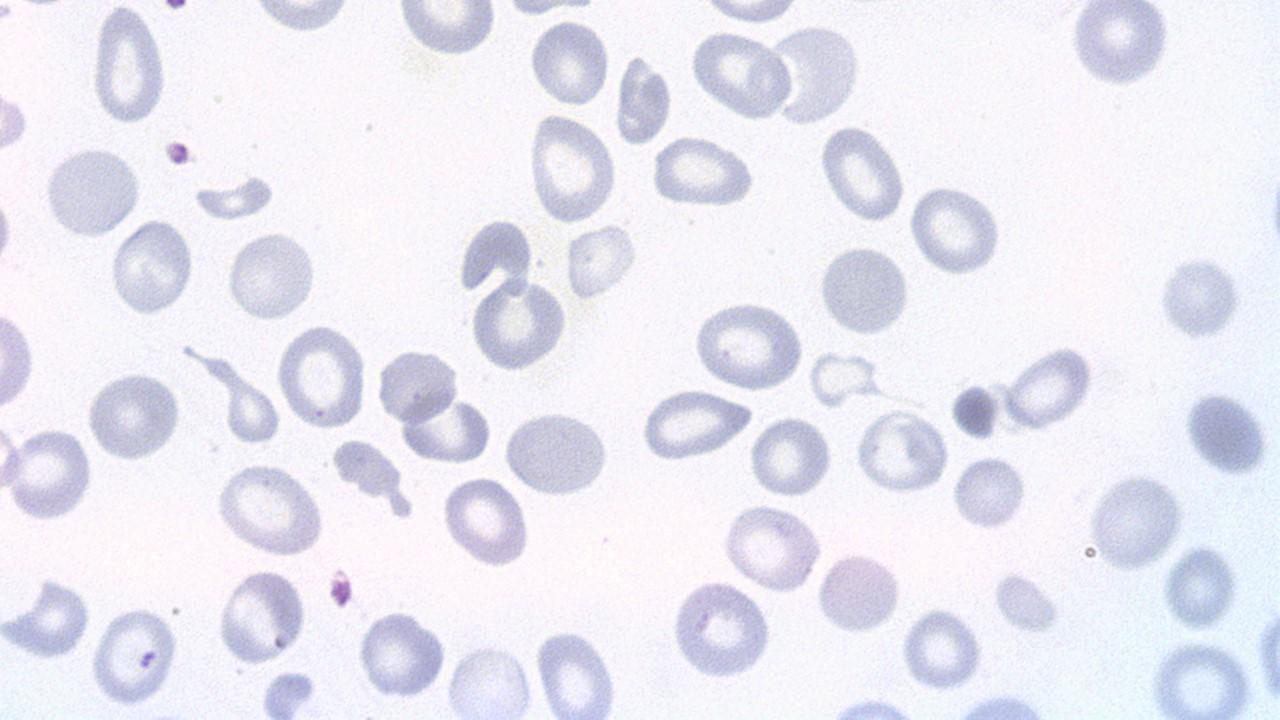Platelets: (326, 568, 354, 610), (162, 137, 196, 169), (154, 0, 192, 11)
RBC: (756, 21, 866, 128), (668, 576, 778, 682), (690, 297, 806, 393), (213, 461, 326, 558), (1084, 468, 1188, 572), (500, 406, 614, 499), (468, 272, 569, 376), (86, 602, 183, 710), (525, 111, 618, 223), (274, 322, 370, 429), (89, 5, 172, 126), (1065, 4, 1175, 94), (42, 142, 143, 240), (687, 28, 793, 121), (907, 180, 1007, 278), (720, 500, 826, 592), (816, 239, 913, 339), (999, 340, 1103, 433), (213, 566, 309, 666), (817, 122, 909, 225), (84, 368, 183, 463), (1141, 636, 1257, 717), (532, 622, 628, 718), (1179, 384, 1277, 478), (1152, 252, 1248, 346), (225, 227, 318, 324), (107, 218, 197, 318), (852, 404, 952, 494), (636, 388, 754, 464), (354, 609, 450, 702), (3, 426, 95, 522), (440, 474, 532, 570), (647, 133, 757, 211), (0, 573, 93, 665), (812, 550, 904, 636), (898, 604, 986, 693), (1159, 542, 1241, 636), (528, 15, 610, 108), (443, 638, 538, 718), (376, 344, 468, 424), (748, 415, 834, 498), (399, 395, 495, 464), (948, 454, 1029, 534), (564, 221, 640, 302), (613, 52, 677, 145), (395, 2, 496, 60), (989, 568, 1067, 634), (189, 173, 283, 222), (235, 0, 361, 34), (221, 377, 283, 443), (1, 304, 36, 414), (946, 381, 1001, 441), (260, 666, 320, 718), (696, 0, 804, 26), (0, 81, 29, 160), (0, 414, 25, 499)
